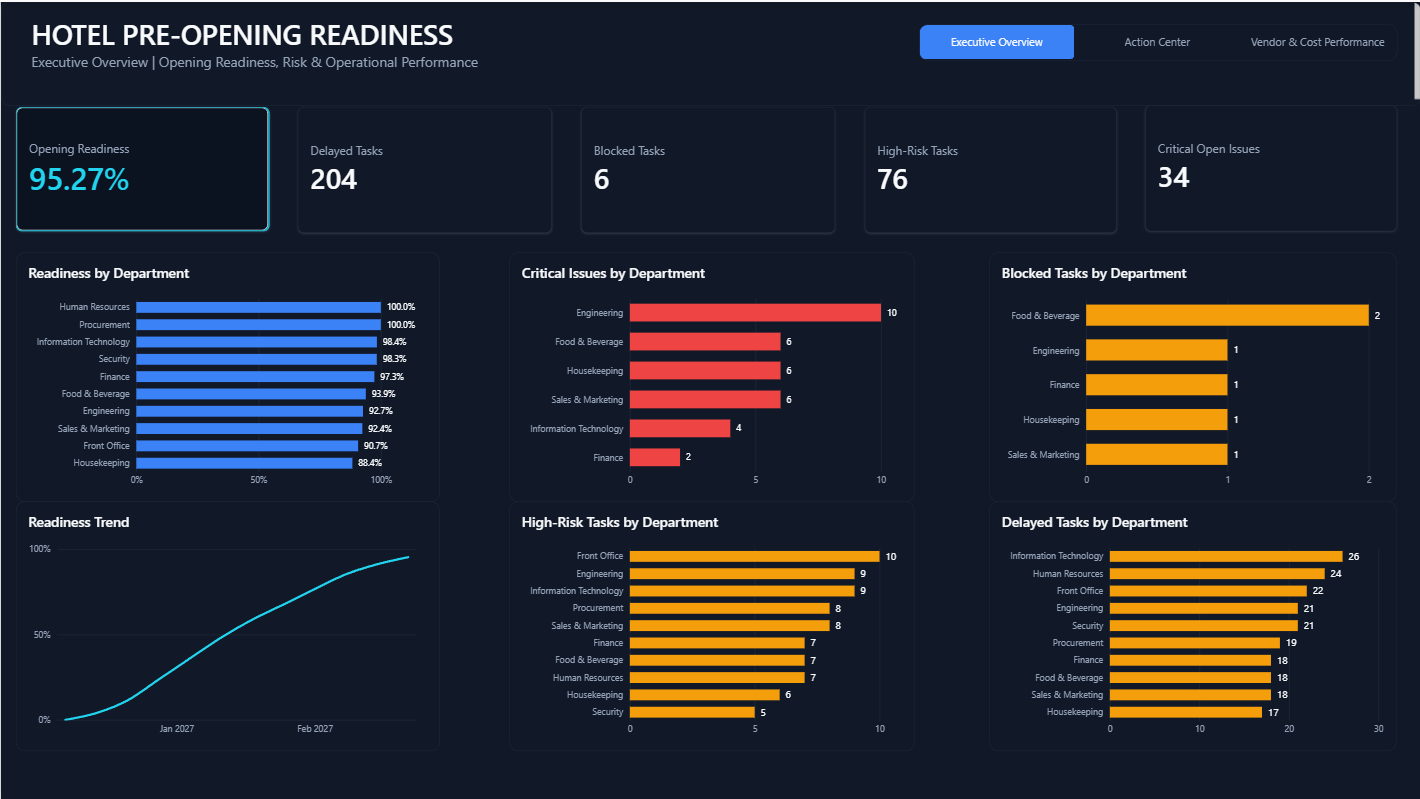

The dashboard page shown, as its layout file describes it:
{"tool":"powerbi","page":{"name":"Executive Overview","canvas":[1920,1080],"ordinal":0},"visuals":[{"type":"cardVisual","fields":{"Data":["Departments.Latest Snapshot Readiness %"]},"box":[20,142.5,342.5,168],"z":0},{"type":"cardVisual","fields":{"Data":["Departments.Critical Open Issues"]},"box":[1546.7,140,340,170],"z":1000},{"type":"cardVisual","fields":{"Data":["Departments.High-Risk Tasks"]},"box":[1166.9,142.5,340,170],"z":2000},{"type":"cardVisual","fields":{"Data":["Departments.Blocked Tasks"]},"box":[784.6,142.5,342.5,170],"z":3000},{"type":"cardVisual","fields":{"Data":["Departments.Delayed Tasks"]},"box":[402.3,142.5,342.5,170],"z":4000},{"type":"clusteredBarChart","title":"Readiness by Department","fields":{"Category":["Departments.Department_Name"],"Y":["Departments.Latest Snapshot Readiness %"]},"box":[20,337.8,572.5,337.5],"z":5000},{"type":"lineChart","title":"Readiness Trend","fields":{"Category":["DimDate.Date"],"Y":["Departments.Overall Readiness %"]},"box":[20,674.4,572.5,337.5],"z":6000},{"type":"clusteredBarChart","title":"Delayed Tasks by Department","fields":{"Category":["Departments.Department_Name"],"Y":["Departments.Delayed Tasks"]},"box":[1336.7,674.4,550,337.5],"z":7000},{"type":"clusteredBarChart","title":"High-Risk Tasks by Department","fields":{"Category":["Departments.Department_Name"],"Y":["Departments.High-Risk Tasks"]},"box":[686.7,674.4,547.5,337.5],"z":8000},{"type":"clusteredBarChart","title":"Critical Issues by Department","fields":{"Category":["Departments.Department_Name"],"Y":["Departments.Critical Open Issues"]},"box":[686.7,337.8,547.5,337.5],"z":9000},{"type":"clusteredBarChart","title":"Blocked Tasks by Department","fields":{"Category":["Departments.Department_Name"],"Y":["Departments.Blocked Tasks"]},"box":[1336.7,337.8,550,337.5],"z":10000},{"type":"textbox","box":[0,0,1920,140],"z":11000},{"type":"pageNavigator","box":[1286.7,30,600,50],"z":12000}]}

Visuals, with their boxes in screenshot pixels (x1, y1, x2, y2), scaled from the page's 1920x1080 canvas onto the 1420x799 screenshot:
cardVisual - Departments.Latest Snapshot Readiness %: <bbox>15, 105, 268, 230</bbox>
cardVisual - Departments.Critical Open Issues: <bbox>1144, 104, 1395, 229</bbox>
cardVisual - Departments.High-Risk Tasks: <bbox>863, 105, 1114, 231</bbox>
cardVisual - Departments.Blocked Tasks: <bbox>580, 105, 834, 231</bbox>
cardVisual - Departments.Delayed Tasks: <bbox>298, 105, 551, 231</bbox>
"Readiness by Department" clusteredBarChart: <bbox>15, 250, 438, 500</bbox>
"Readiness Trend" lineChart: <bbox>15, 499, 438, 749</bbox>
"Delayed Tasks by Department" clusteredBarChart: <bbox>989, 499, 1395, 749</bbox>
"High-Risk Tasks by Department" clusteredBarChart: <bbox>508, 499, 913, 749</bbox>
"Critical Issues by Department" clusteredBarChart: <bbox>508, 250, 913, 500</bbox>
"Blocked Tasks by Department" clusteredBarChart: <bbox>989, 250, 1395, 500</bbox>
textbox: <bbox>0, 0, 1419, 104</bbox>
pageNavigator: <bbox>952, 22, 1395, 59</bbox>
